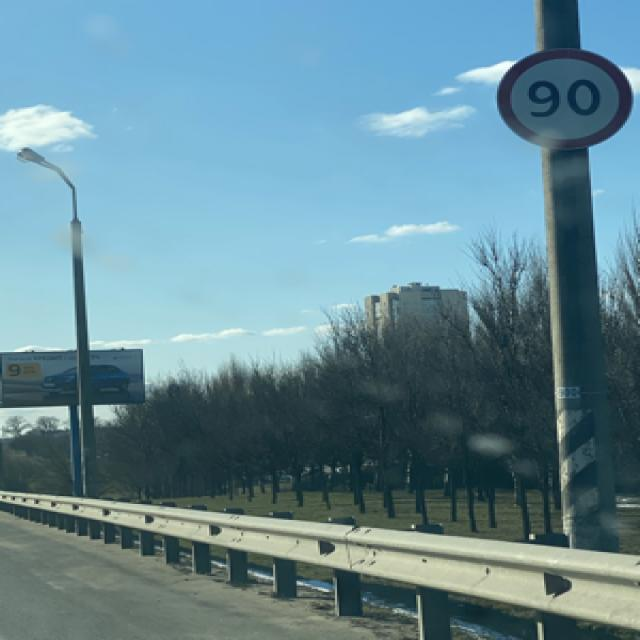speedlimit: (493, 45, 631, 147)
